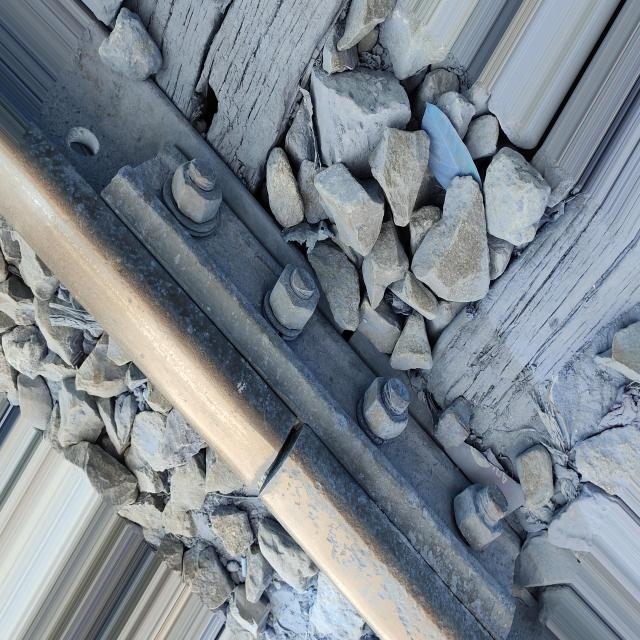Good Joint: (101, 145, 520, 638)
